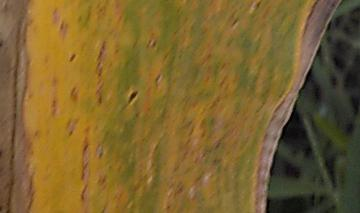tarspot: (125, 89, 140, 104), (252, 1, 264, 13), (229, 17, 240, 28), (144, 37, 152, 51), (67, 53, 78, 62), (151, 39, 157, 50)
